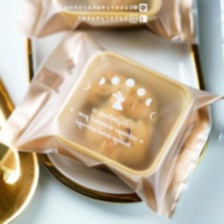snack: (0, 13, 224, 224), (14, 0, 206, 48)
